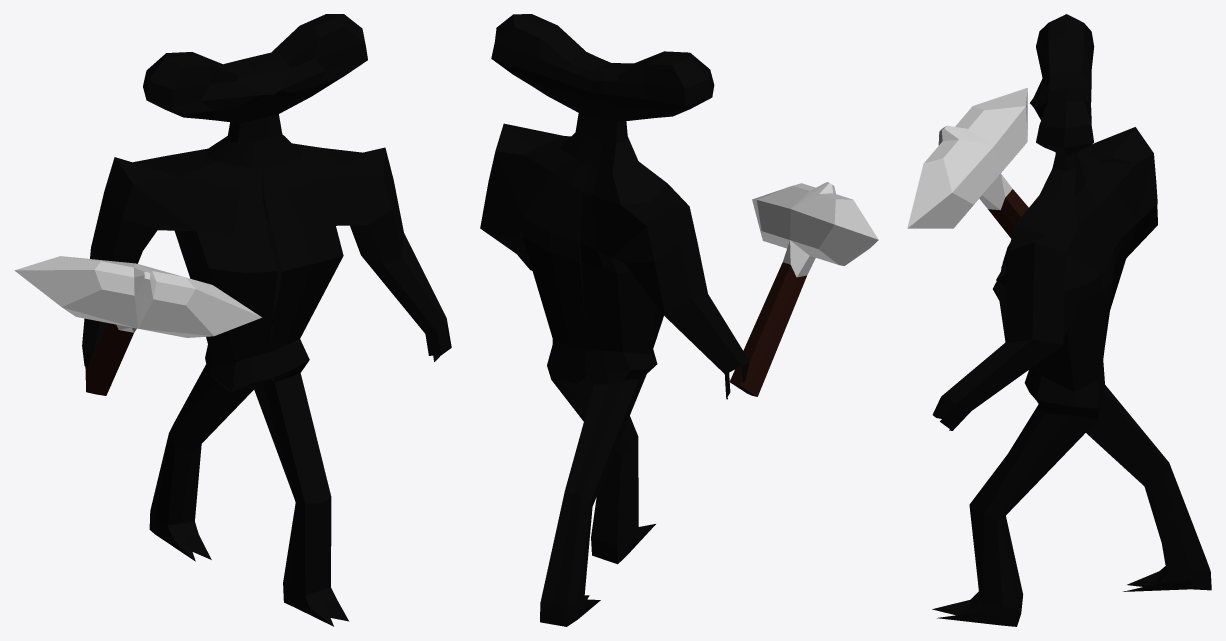
Rendered from GiantWalk1.obj.
3 renders of one model, left to right at view 1: azimuth 30°, elevation 25°; view 2: azimuth 150°, elevation 25°; view 3: azimuth 270°, elevation 25°, orthographic.
Visible parts, largest first — view 1: Cube; view 2: Cube; view 3: Cube.
Boxes of the visible parts, left/top/right/bottom form: Cube: left=14, top=14, right=451, bottom=626; Cube: left=480, top=14, right=878, bottom=626; Cube: left=907, top=14, right=1211, bottom=626.
Bounding box in the file's own units: 1.17 × 1.55 × 0.7724.
